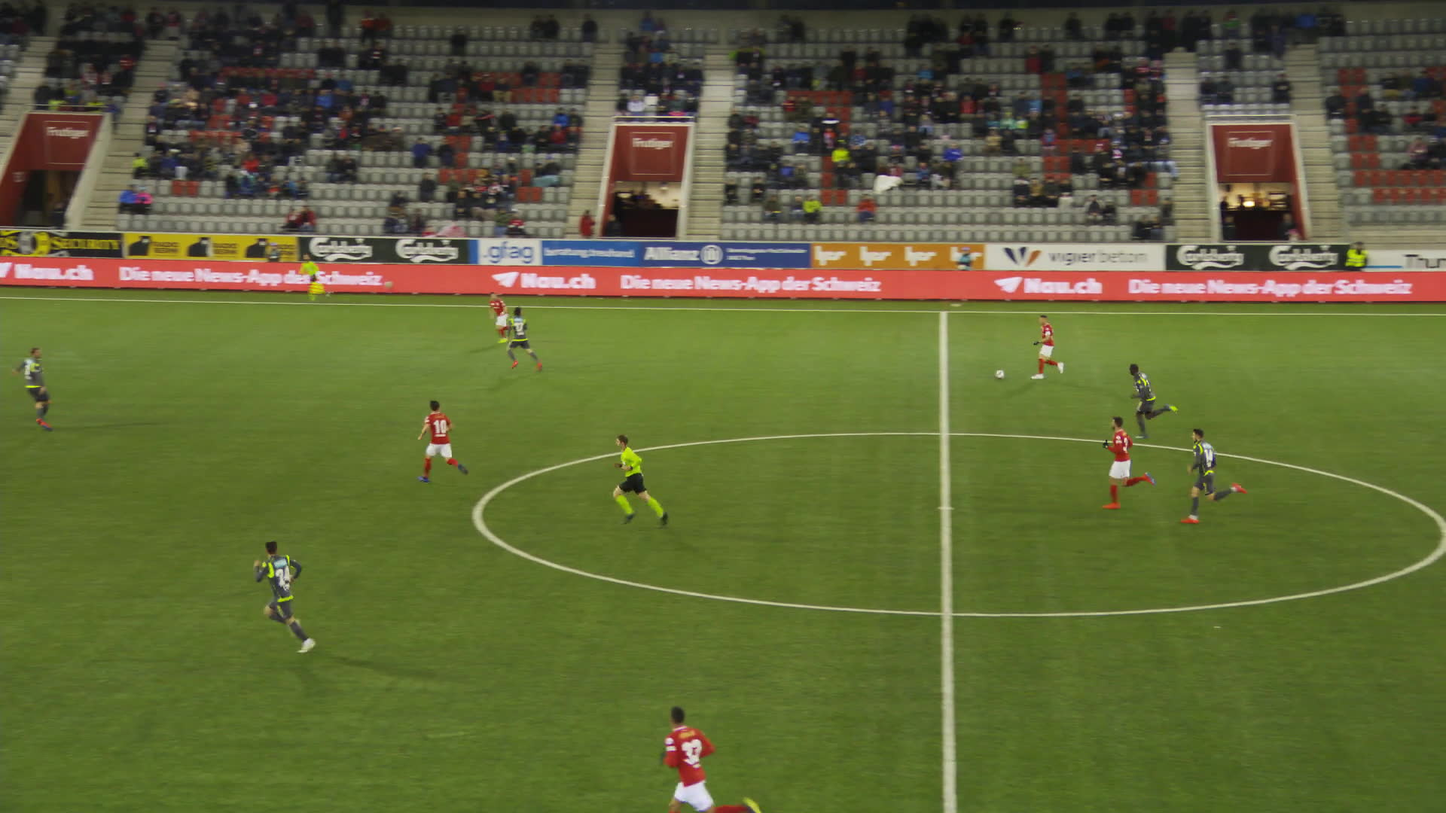ball: (993, 369, 1002, 377)
player: (666, 709, 758, 812), (254, 538, 326, 653), (1098, 416, 1148, 510), (1187, 430, 1236, 525), (0, 348, 49, 433), (413, 402, 457, 488), (1123, 364, 1169, 441), (499, 306, 541, 370), (1027, 314, 1061, 380), (481, 291, 512, 343)
referee: (606, 434, 676, 527), (291, 255, 319, 303)
